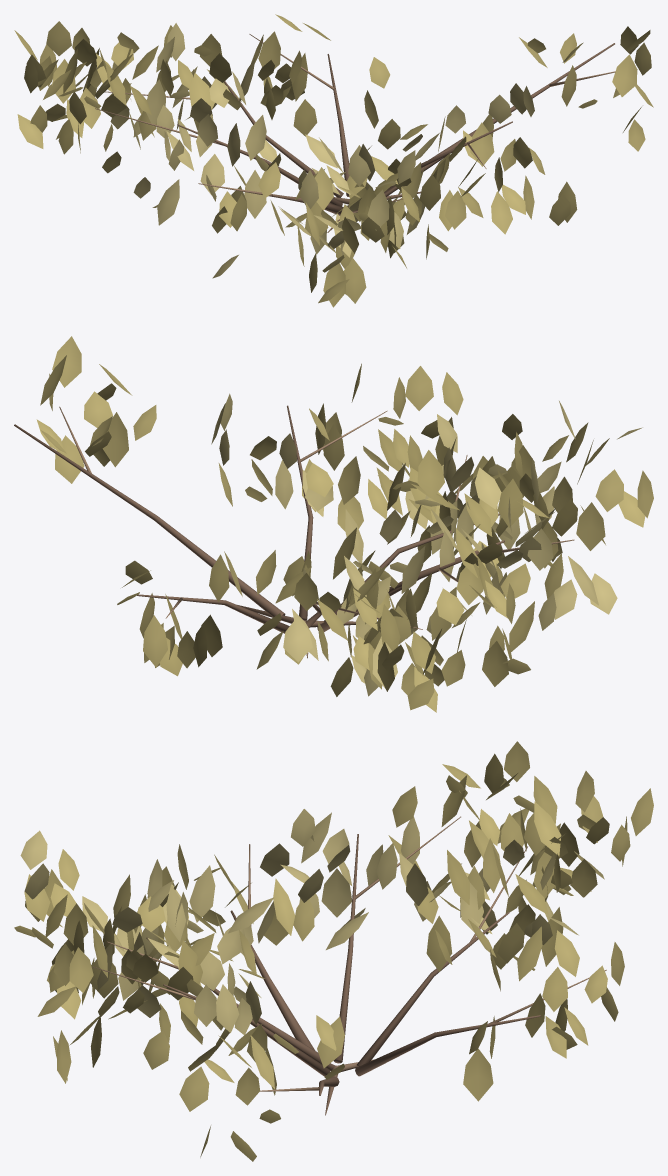
The model's file is bush_3d_04_yellow.glb.
3 views of the same model, one above another, from view 1: azimuth 30°, elevation 25°; view 2: azimuth 150°, elevation 25°; view 3: azimuth 270°, elevation 25° (orthographic). The views are drawn at different scales.
Parts seen in each view (by area): view 1: bush_3d_04_yellow_foliage, bush_3d_04_yellow_wood; view 2: bush_3d_04_yellow_foliage, bush_3d_04_yellow_wood; view 3: bush_3d_04_yellow_foliage, bush_3d_04_yellow_wood.
Part boxes in pixels (x1,y1,x2,y2): bush_3d_04_yellow_foliage: (14, 14, 653, 307); bush_3d_04_yellow_wood: (95, 34, 615, 232); bush_3d_04_yellow_foliage: (36, 336, 653, 712); bush_3d_04_yellow_wood: (14, 405, 574, 658); bush_3d_04_yellow_foliage: (14, 741, 653, 1161); bush_3d_04_yellow_wood: (93, 816, 606, 1115).
Bounding box in the file's own units: 2.7 × 0.8105 × 2.39.
